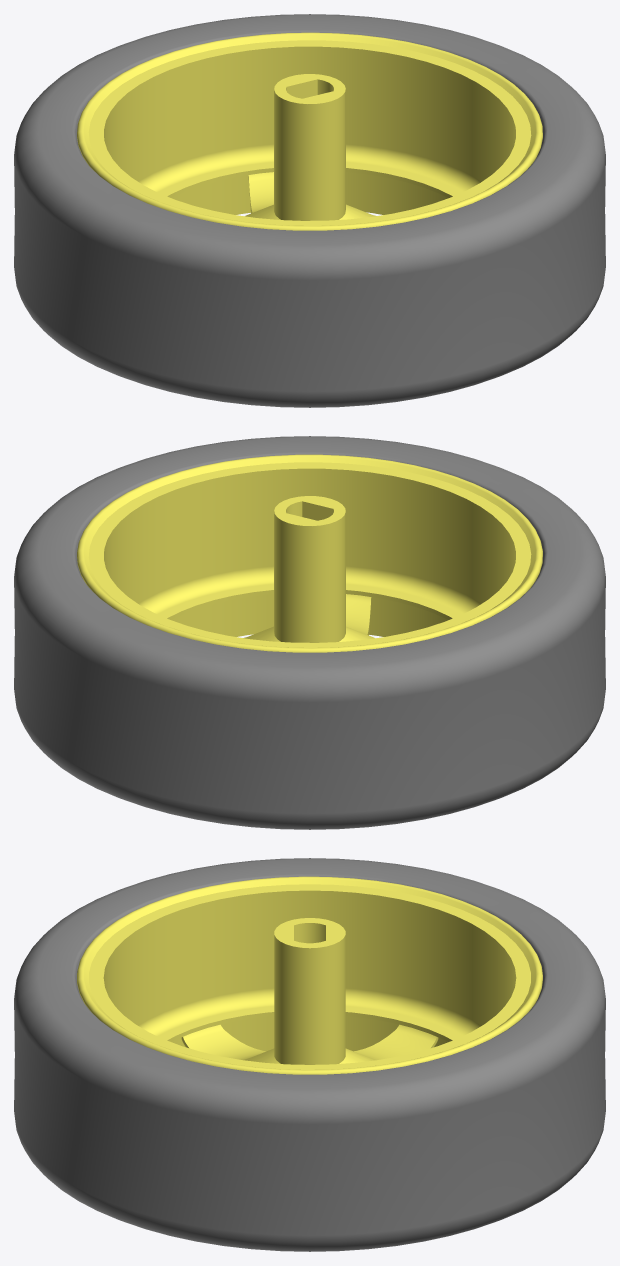
Rendered from wheel_right.glb.
The picture shows the model from 3 angles, top to bottom: view 1: azimuth 30°, elevation 25°; view 2: azimuth 150°, elevation 25°; view 3: azimuth 270°, elevation 25°; orthographic projection.
Parts seen in each view (by area): view 1: wheel_right; view 2: wheel_right; view 3: wheel_right.
Part boxes in pixels (bbox=[...]): wheel_right: bbox=[14, 14, 605, 407]; wheel_right: bbox=[14, 436, 605, 829]; wheel_right: bbox=[14, 858, 605, 1251].
Bounding box in the file's own units: 0.066 × 0.025 × 0.066.
